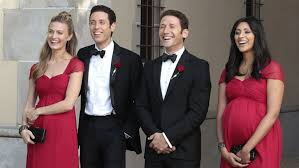Bad: (138, 10, 285, 168), (83, 5, 210, 168), (19, 4, 137, 167)
